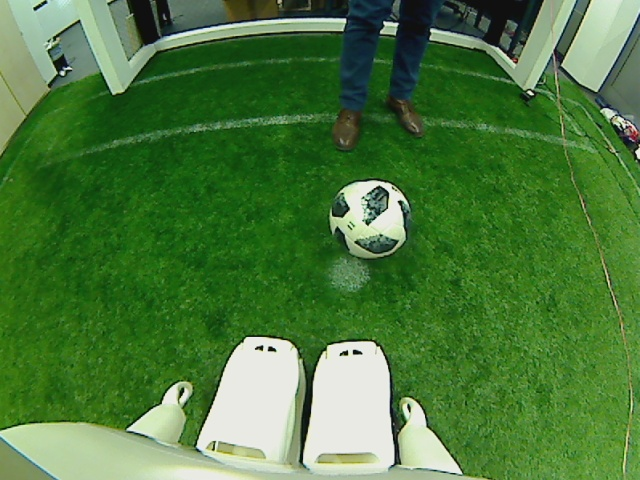ball: (327, 169, 409, 265)
